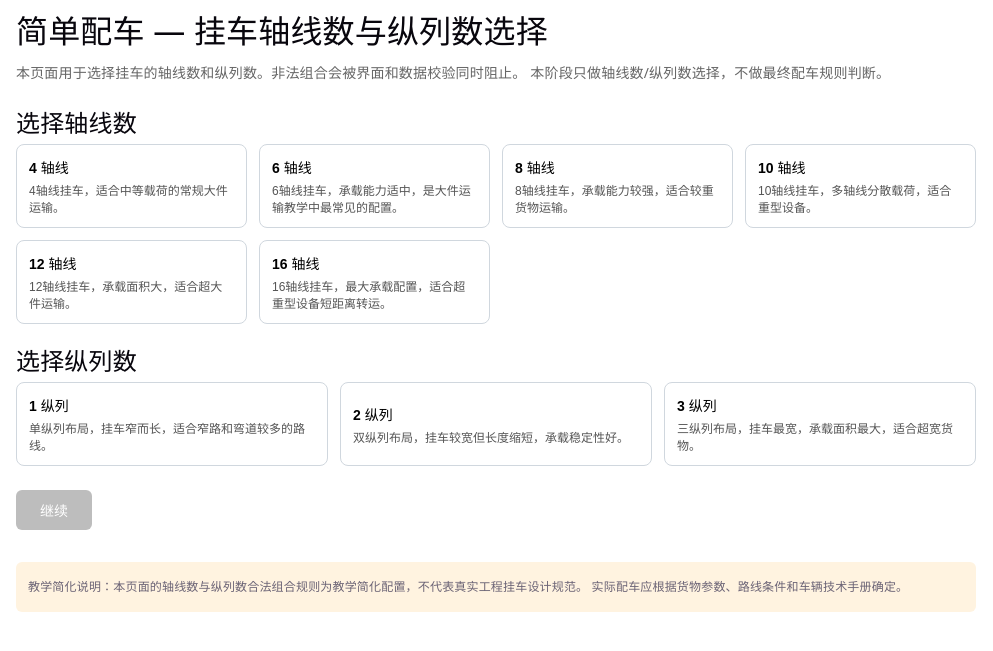
Test: TrailerSelectionPage › should disable col-3 for axle 6 (UI layer block)
Click the button with test id "axle-6" at (374, 186), box [259,144,490,228]
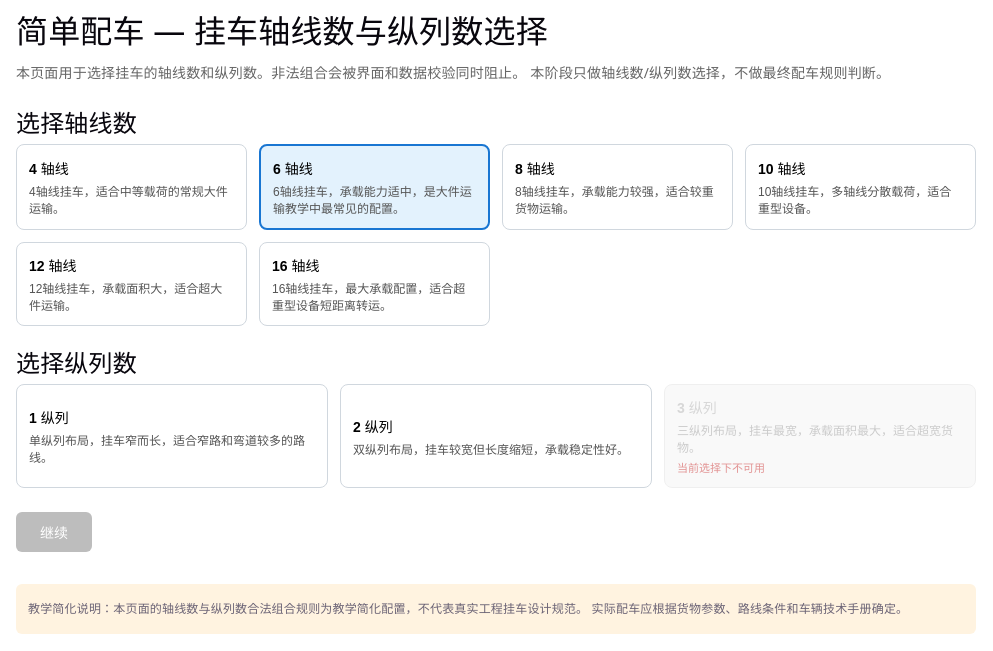
Expected: the button with test id "col-3" is disabled, [664,384,976,488]
